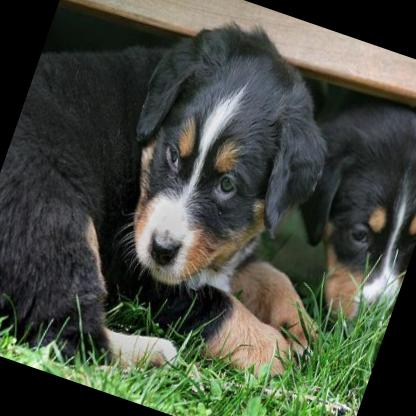Appenzeller: (0, 0, 408, 416), (251, 77, 416, 339)
